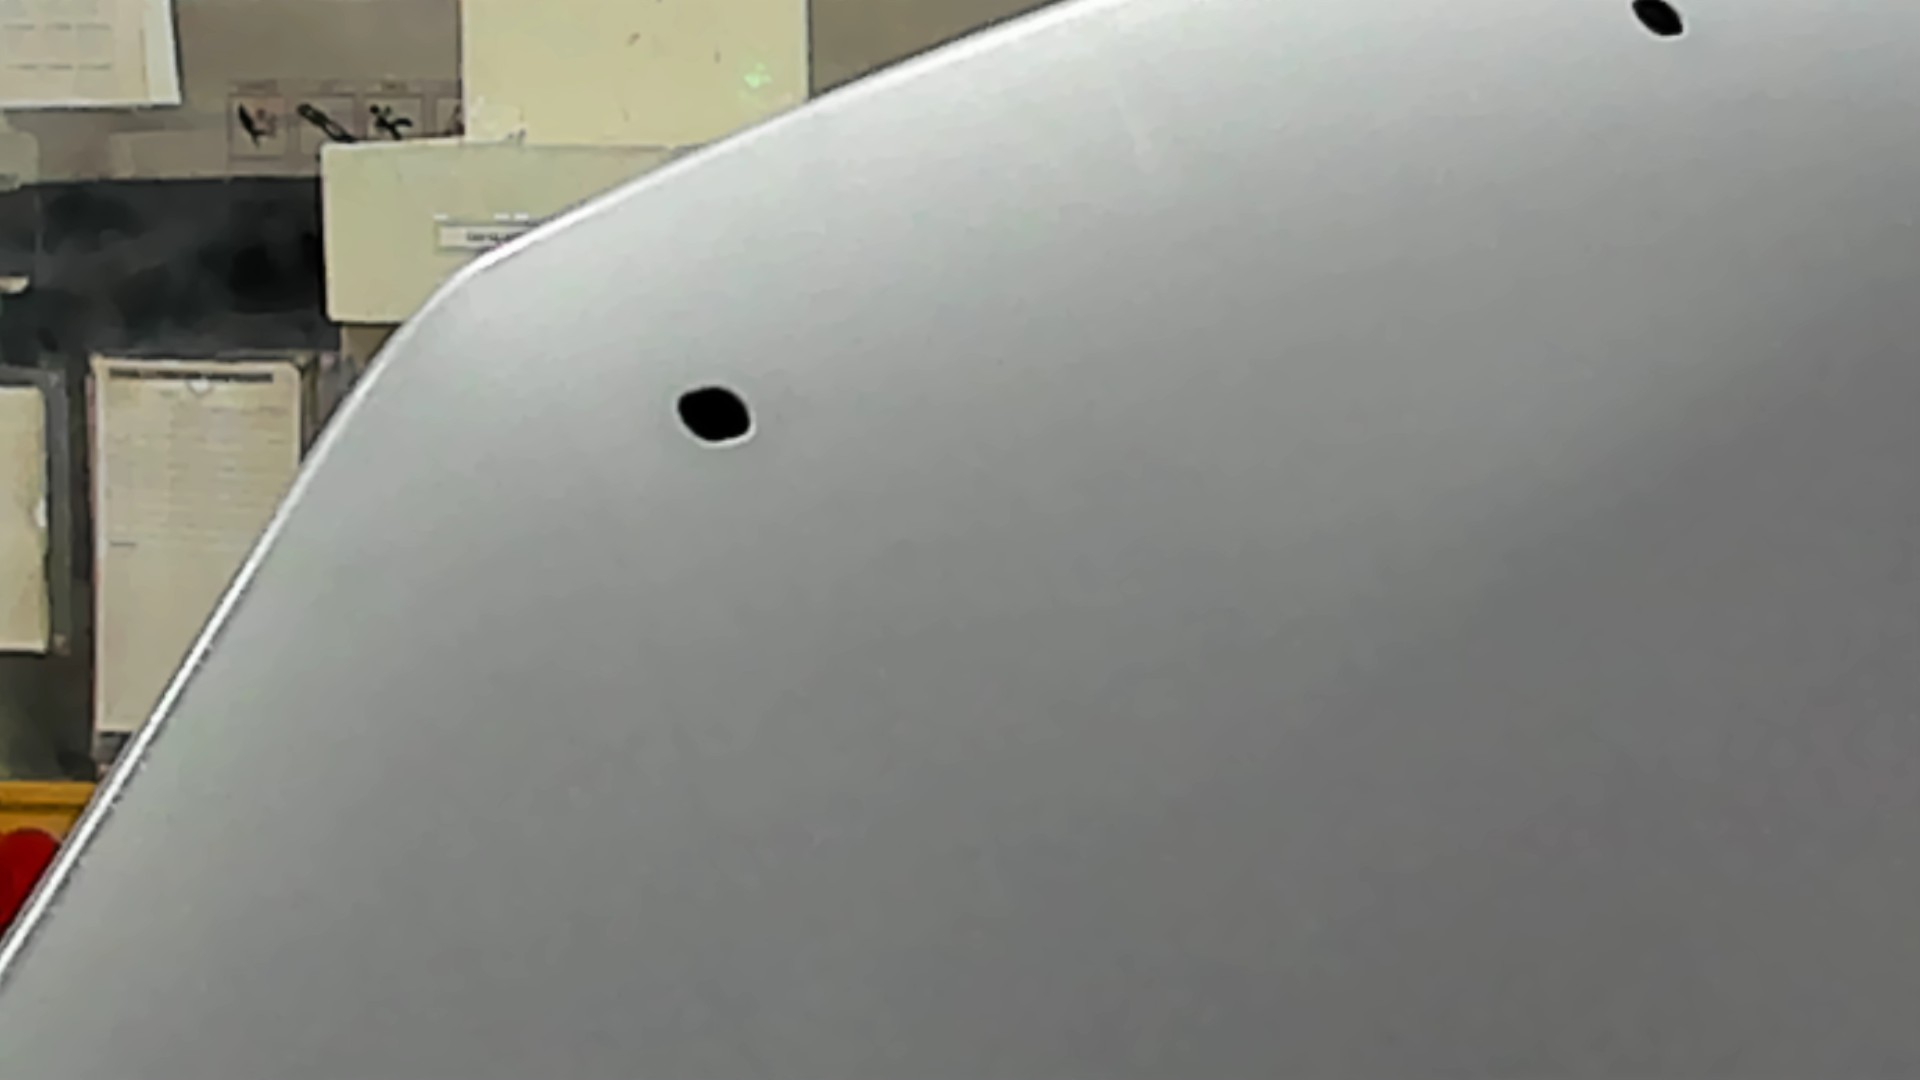chico: (666, 375, 764, 456), (1623, 1, 1701, 47)
